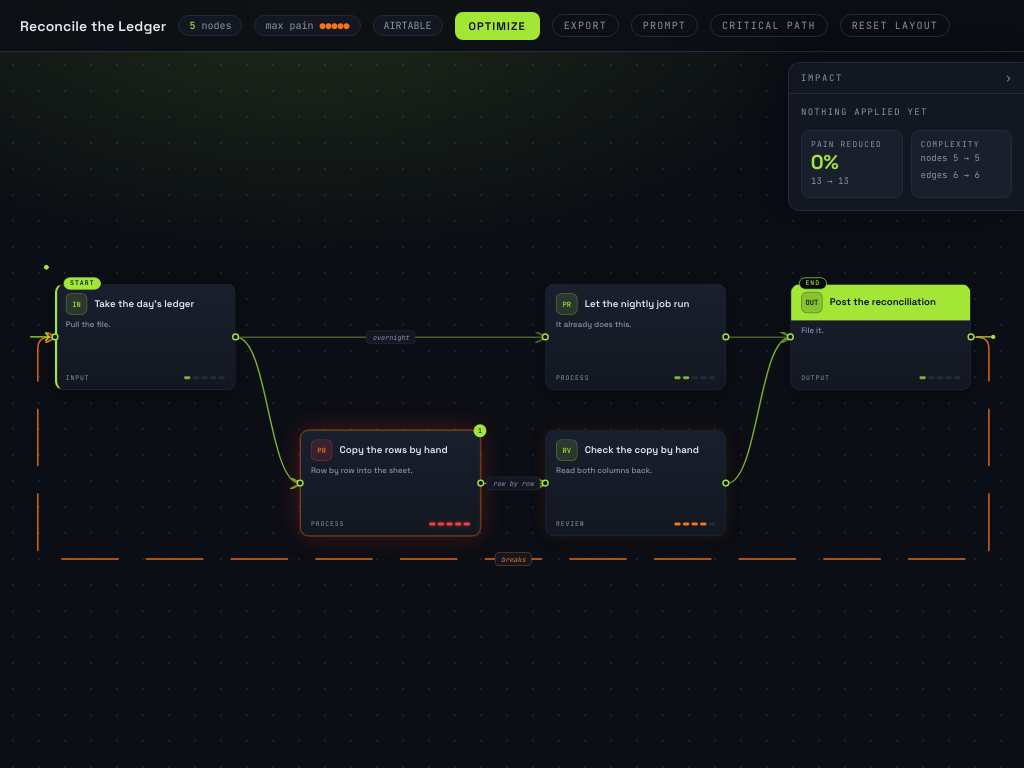
Test: recomputes the route on the version that is on screen
The image size is (1024, 768).
Click the button with test id "critpath-btn". click: click(769, 26)
box: top-left (710, 14), bottom-right (828, 37)
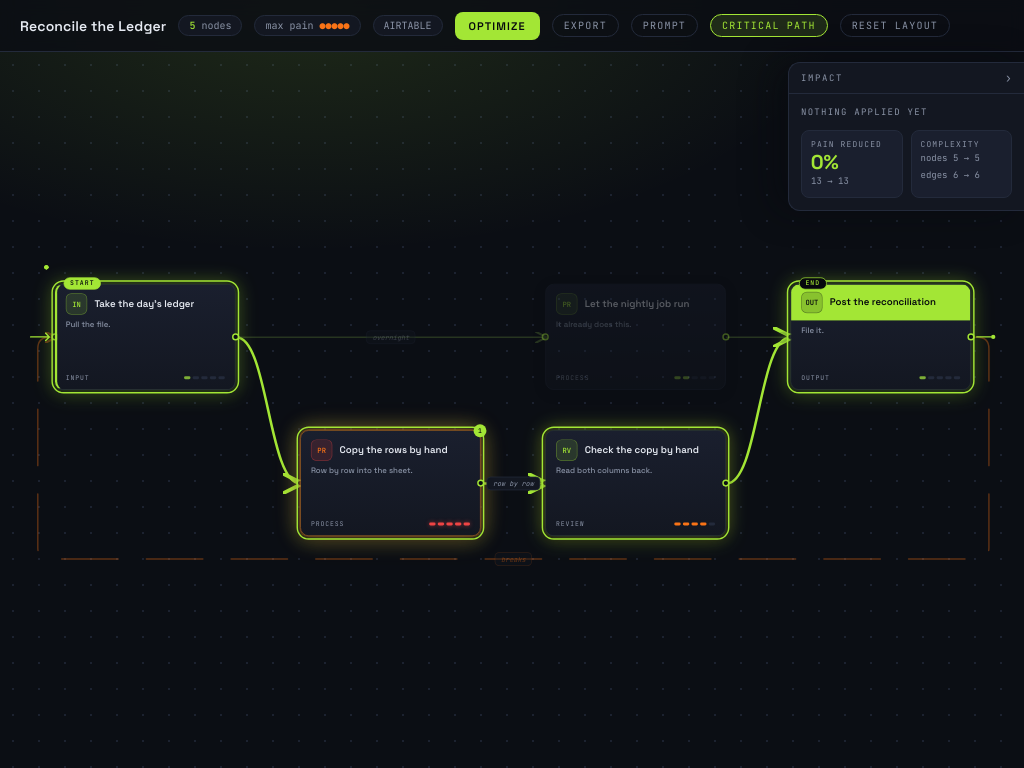
Click the element with test id "sg-node" that starts with "Copy the rows by hand". click: click(390, 483)
box: top-left (300, 430), bottom-right (481, 536)
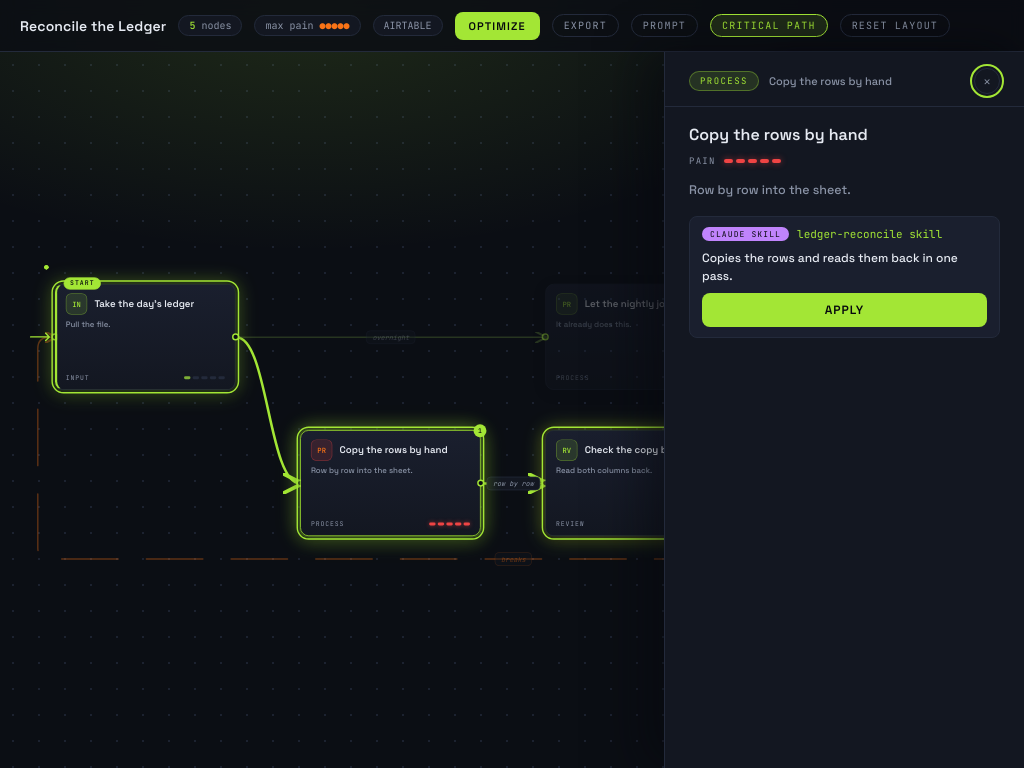
Check: the dialog with test id "detail-drawer" is shown, box top-left (664, 52), bottom-right (1023, 767)
Click the button with test id "sg-sug-apply". click: click(844, 310)
box: top-left (702, 293), bottom-right (987, 327)
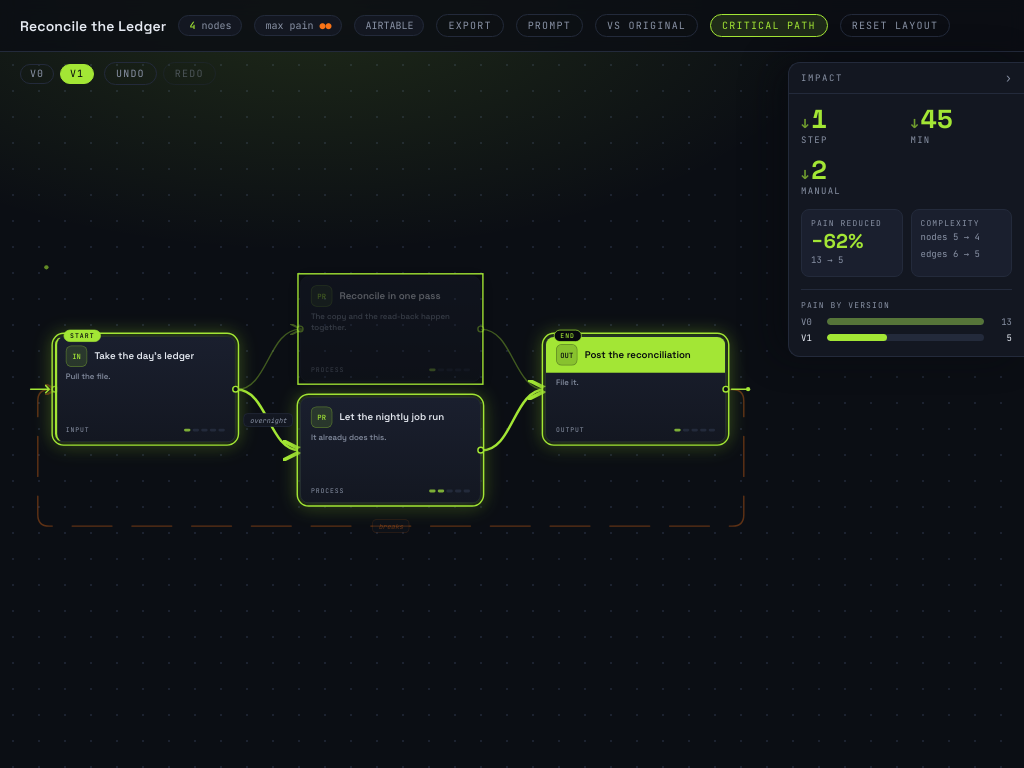
Check: the text "Reconcile in one pass" is shown, box top-left (340, 290), bottom-right (440, 302)
Check: the number of elements with class "sg-node--critical" is 3, box top-left (55, 336), bottom-right (236, 442); top-left (300, 397), bottom-right (481, 503); top-left (545, 336), bottom-right (726, 442)
